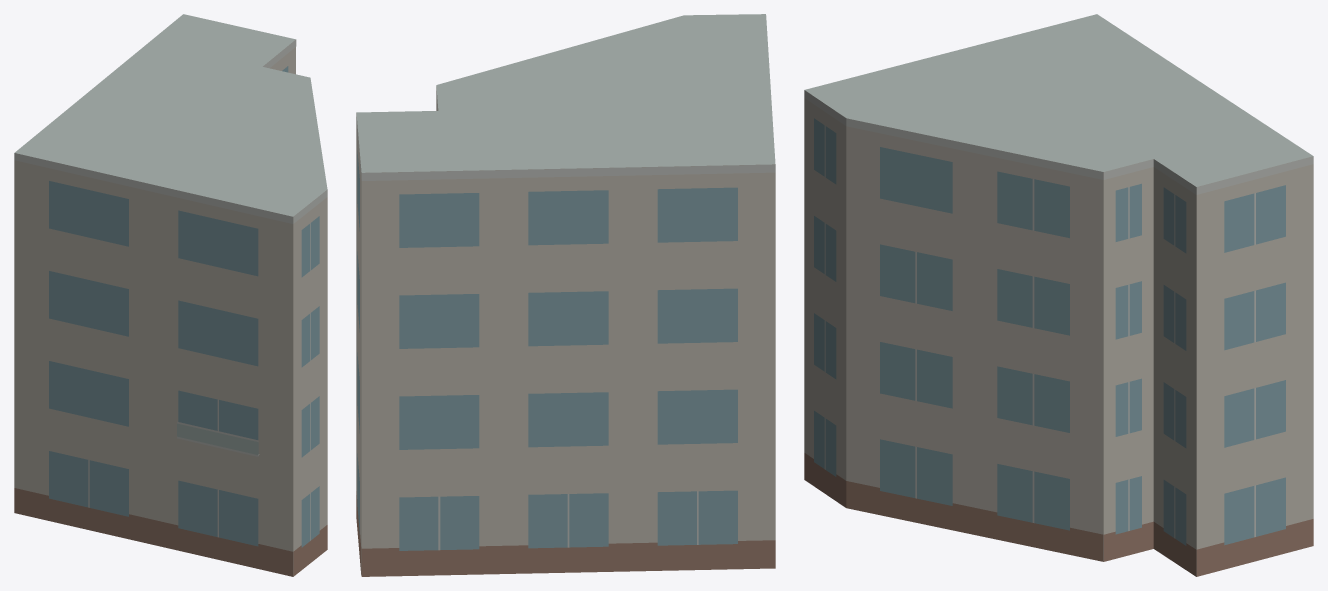
Rendered from survey-upis-32487663.glb.
3 renders of one model, left to right at view 1: azimuth 30°, elevation 25°; view 2: azimuth 150°, elevation 25°; view 3: azimuth 270°, elevation 25°, orthographic. The views are drawn at different scales.
Parts seen in each view (by area): view 1: survey-upis-32487663.tmp; view 2: survey-upis-32487663.tmp; view 3: survey-upis-32487663.tmp.
Part boxes in pixels (bbox=[...]): survey-upis-32487663.tmp: bbox=[14, 14, 327, 576]; survey-upis-32487663.tmp: bbox=[356, 14, 775, 576]; survey-upis-32487663.tmp: bbox=[804, 14, 1313, 576].
Size of the model in its own units: 11.39 by 11.95 by 14.16.
